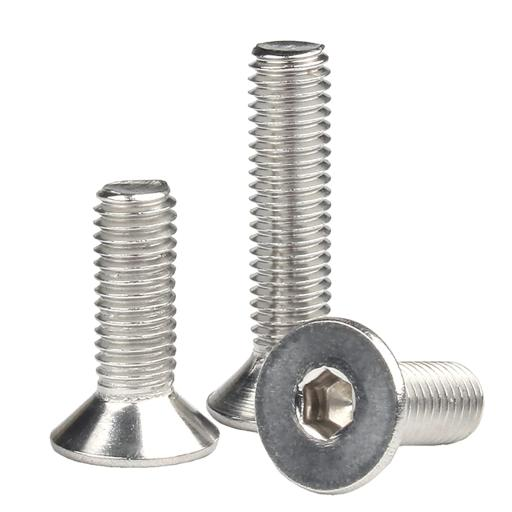Hex-Allen: (255, 319, 400, 491)
